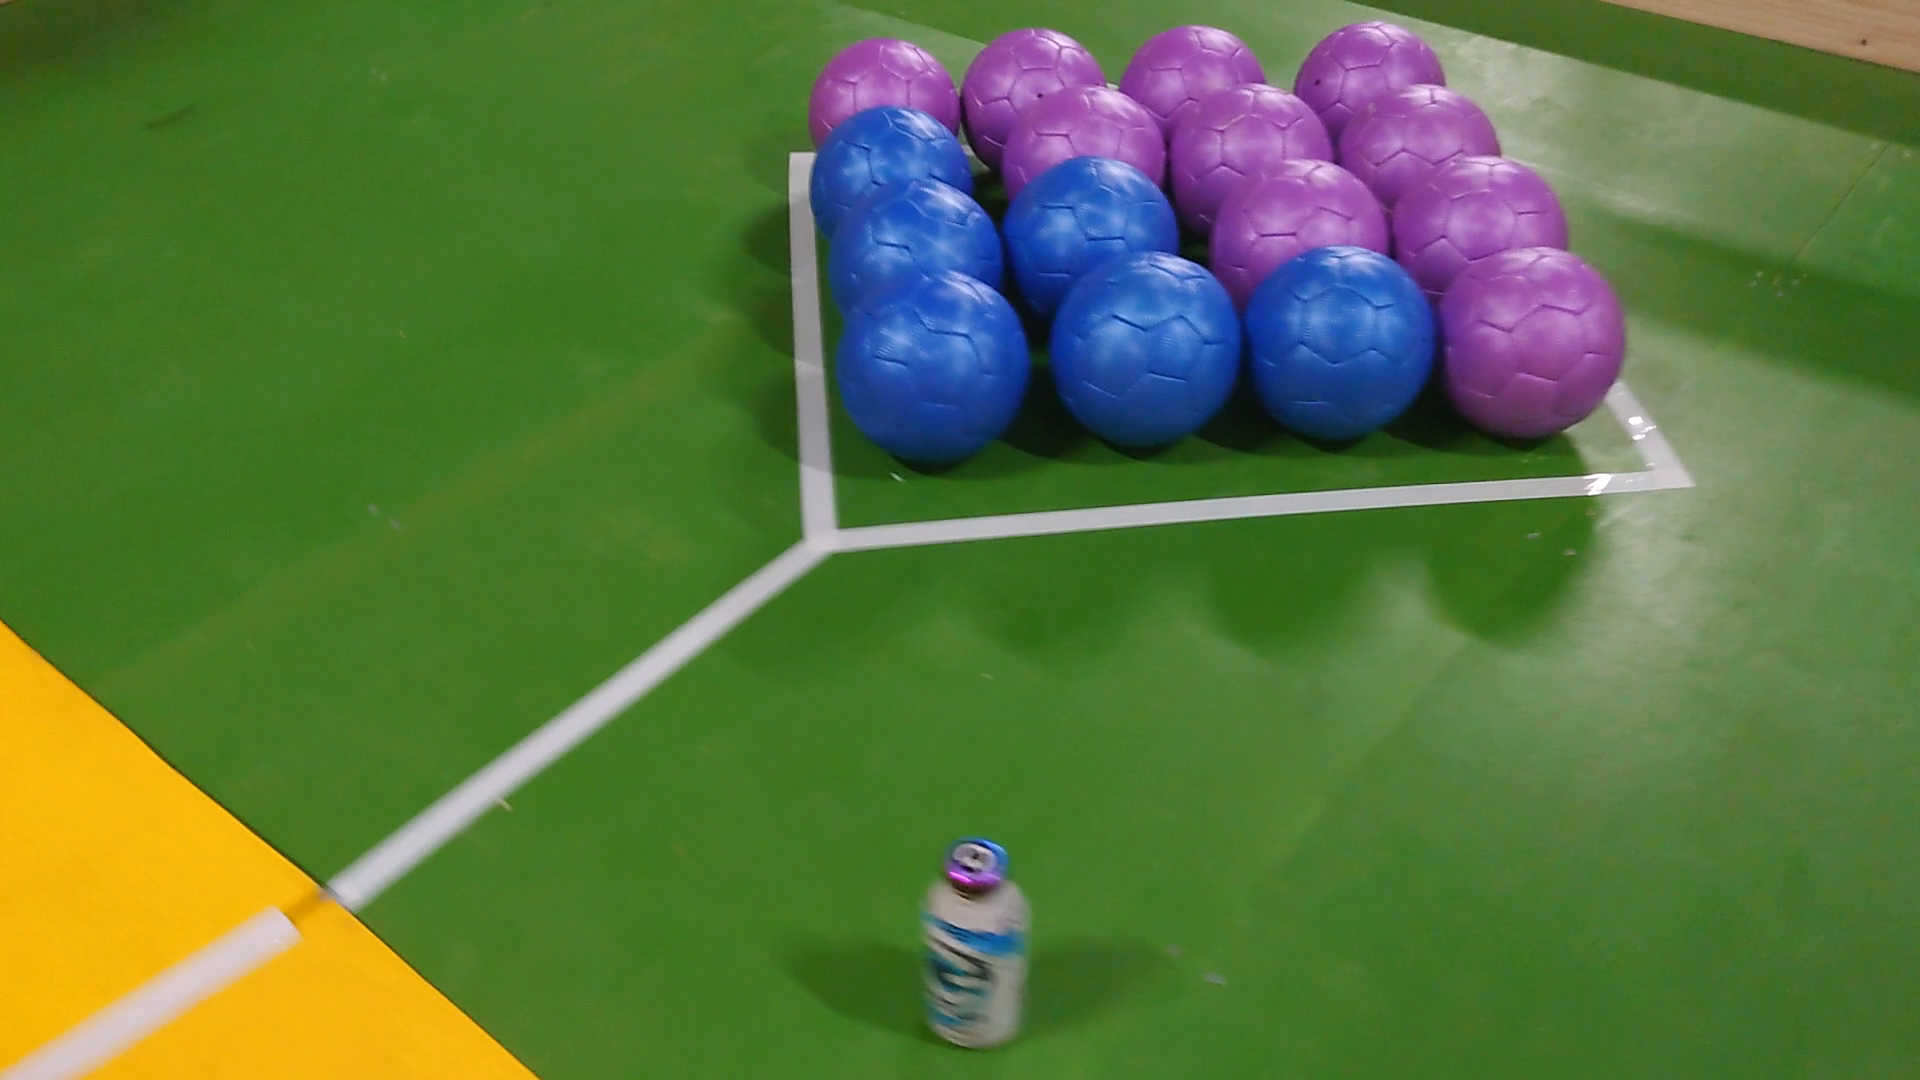blue: (1055, 248, 1241, 454), (845, 268, 1029, 467), (1250, 248, 1431, 438), (1006, 157, 1182, 310), (836, 179, 1006, 303), (810, 104, 980, 228)
purple: (1440, 248, 1626, 434), (1391, 153, 1575, 272), (1002, 82, 1168, 203), (1342, 88, 1502, 206), (1172, 84, 1329, 203), (960, 29, 1106, 144), (810, 33, 960, 137), (1117, 26, 1270, 115), (1290, 20, 1449, 104)
